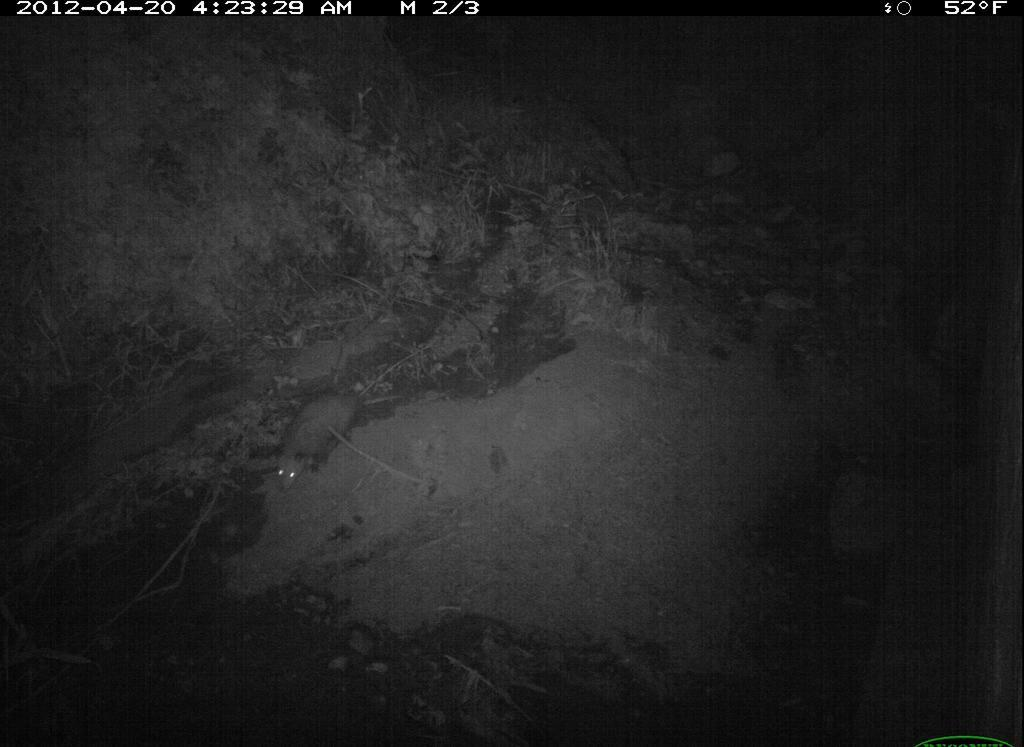opossum: (251, 370, 406, 498)
